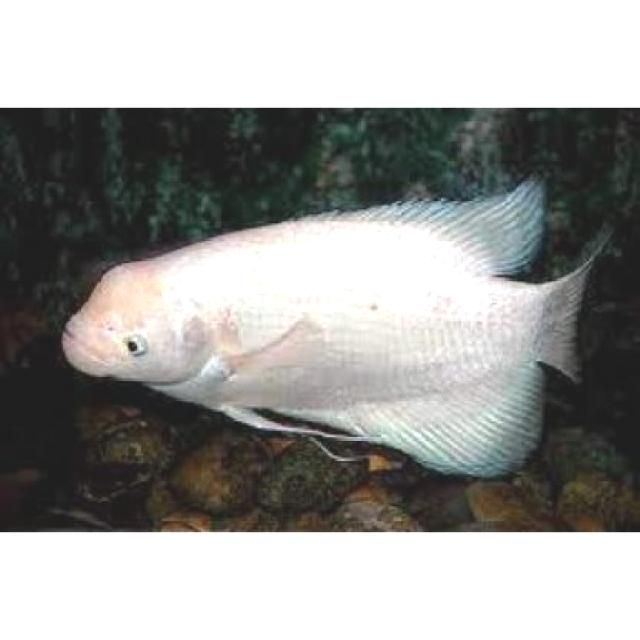gurame: (56, 194, 582, 474)
